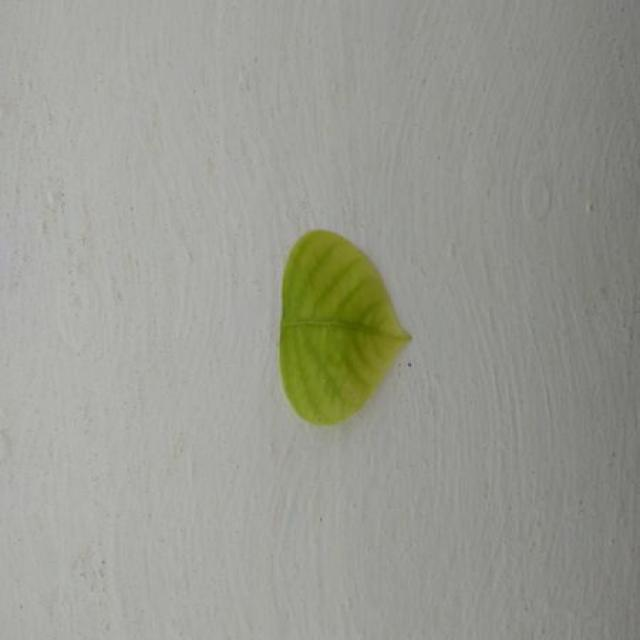leaf: (278, 228, 411, 426)
